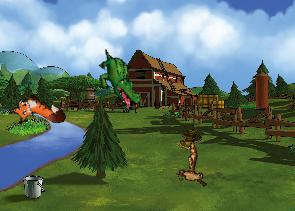crocodile: (84, 47, 153, 113)
eagle: (164, 138, 219, 197)
fox: (6, 86, 68, 142)
